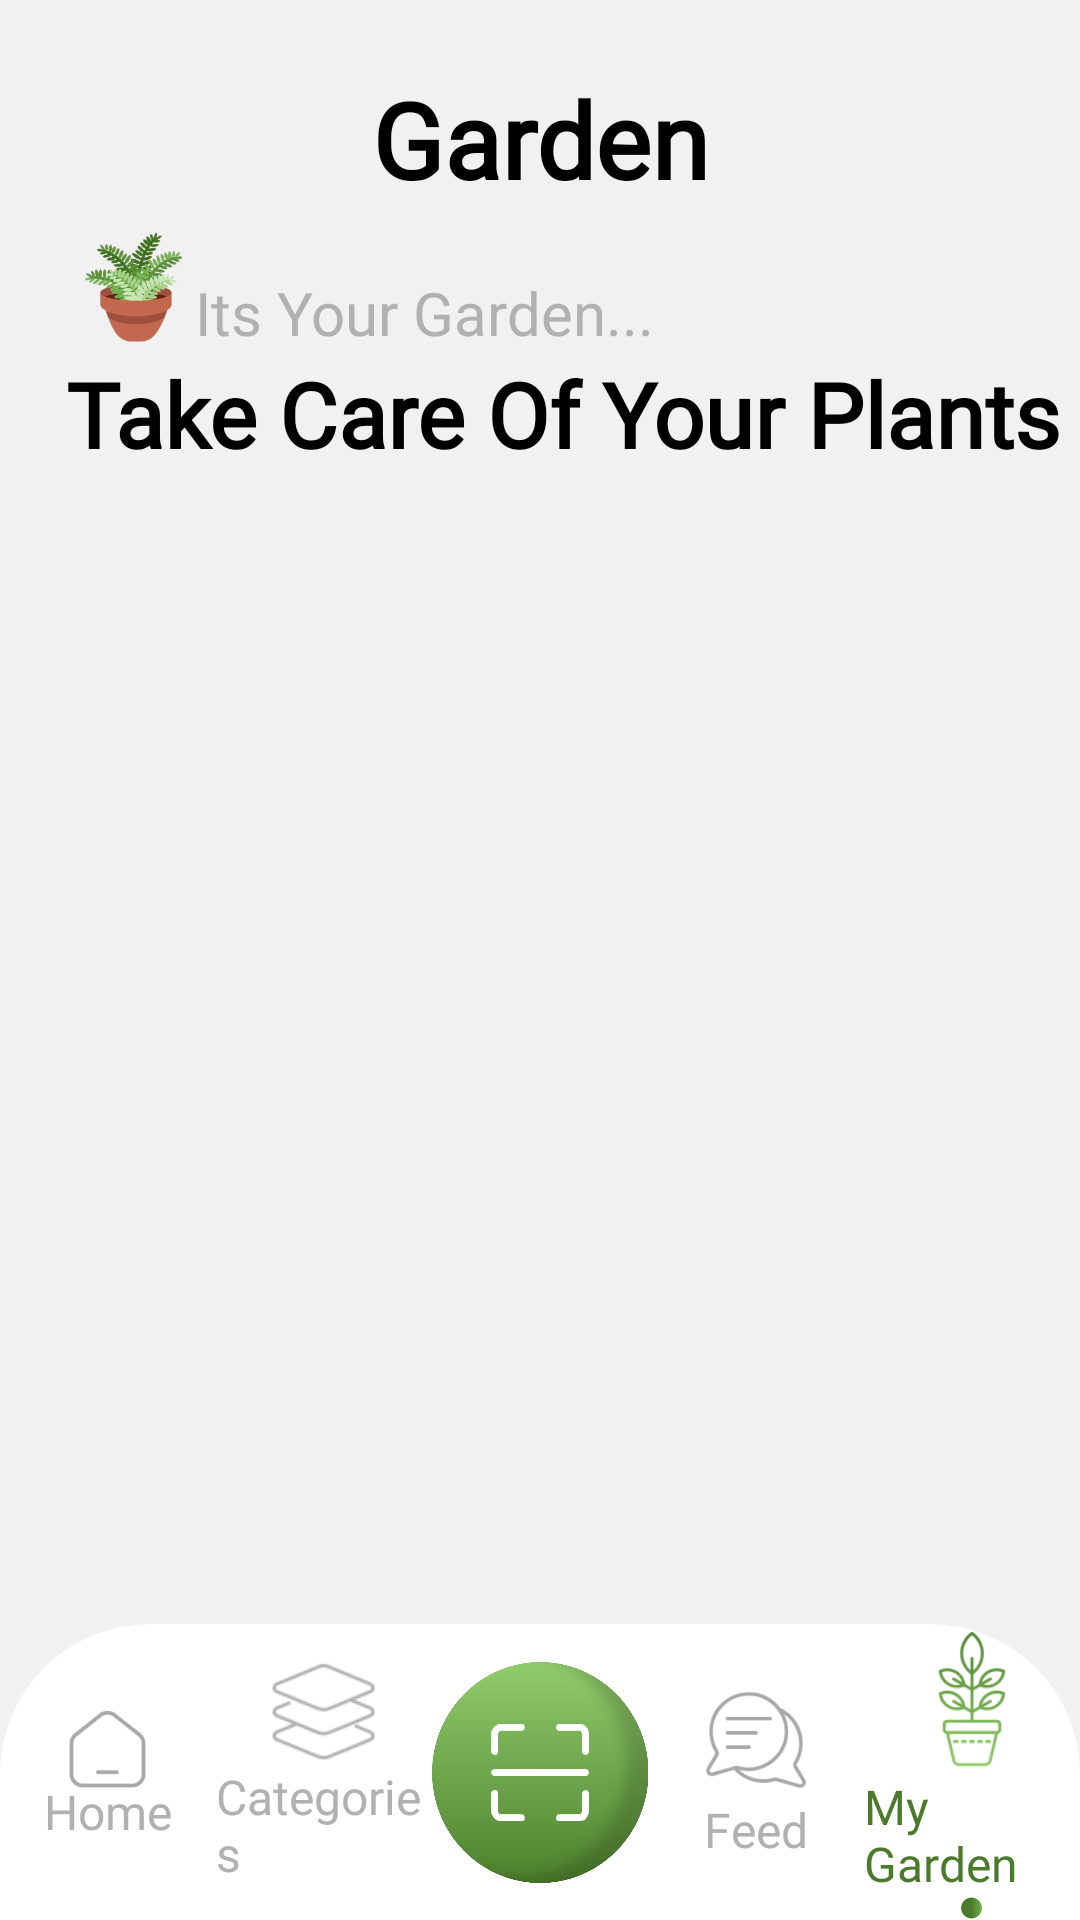

Icon click points for this 1080×1920 phone screenshot, format point (x, y):
in garden: point (972, 1699)
out chat: point (756, 1740)
